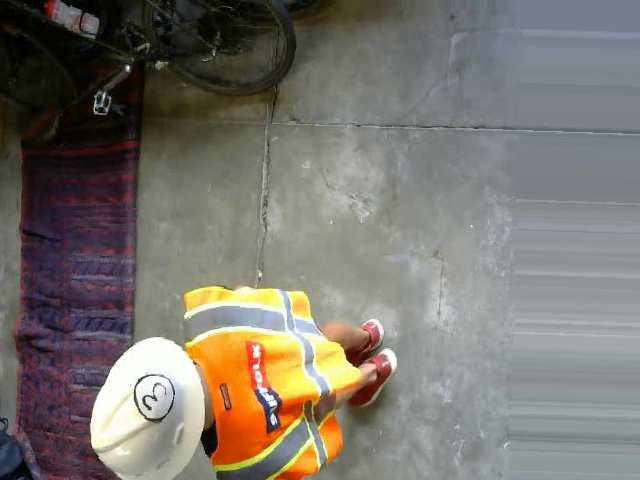three: (131, 372, 175, 423)
